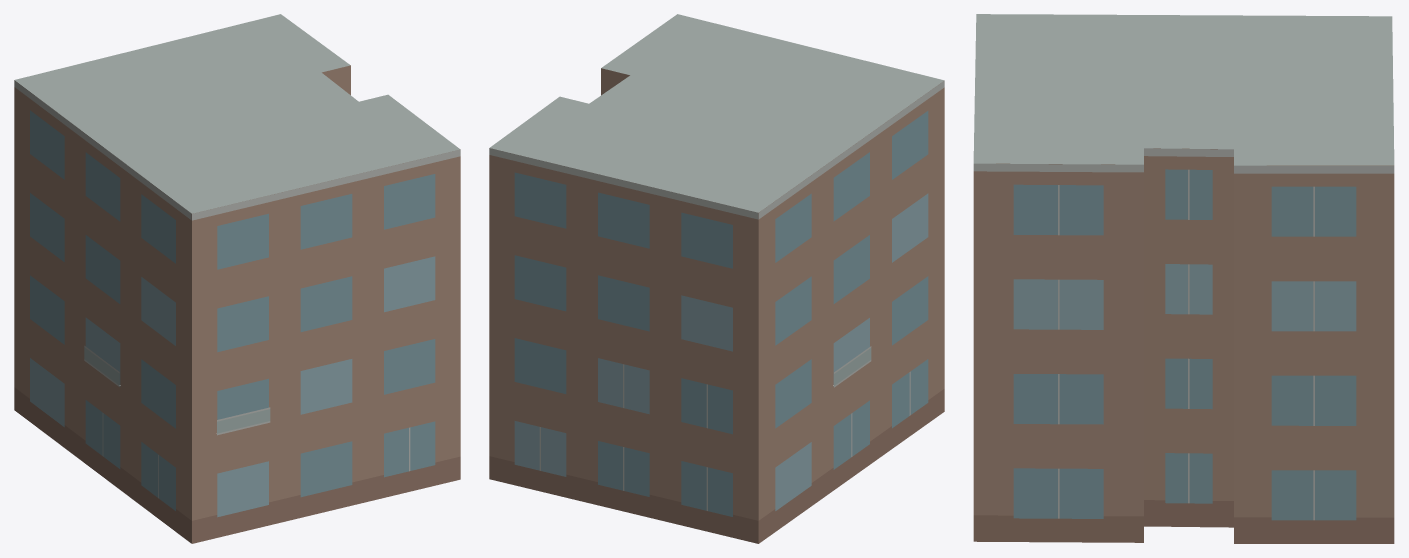
The model's file is survey-upis-32567849.glb.
The picture shows the model from 3 angles, left to right: view 1: azimuth 30°, elevation 25°; view 2: azimuth 150°, elevation 25°; view 3: azimuth 270°, elevation 25°; orthographic projection. The views are drawn at different scales.
Parts seen in each view (by area): view 1: survey-upis-32567849.tmp; view 2: survey-upis-32567849.tmp; view 3: survey-upis-32567849.tmp.
Part boxes in pixels (x1,y1,x2,y2): survey-upis-32567849.tmp: (14,14,460,543); survey-upis-32567849.tmp: (489,14,944,543); survey-upis-32567849.tmp: (973,14,1394,543).
Bounding box in the file's own units: 10.12 × 11.75 × 11.86.
